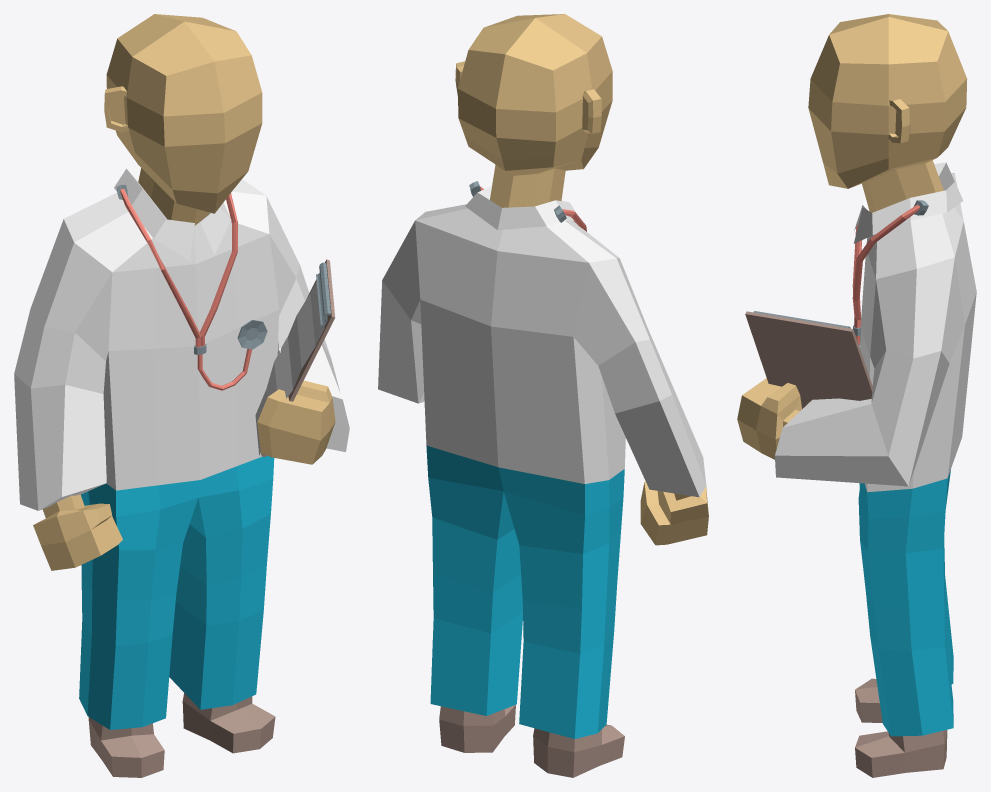
The model's file is Doctor_01.gltf.
3 views of the same model, side by side, from view 1: azimuth 30°, elevation 25°; view 2: azimuth 150°, elevation 25°; view 3: azimuth 270°, elevation 25° (orthographic).
Visible parts, largest first — view 1: node-0; view 2: node-0; view 3: node-0.
Boxes of the visible parts, x1,y1,x2,y2 form: node-0: (14, 14, 349, 777); node-0: (378, 14, 708, 777); node-0: (737, 14, 976, 777).
Bounding box in the file's own units: 5.81 × 12.96 × 3.89.
